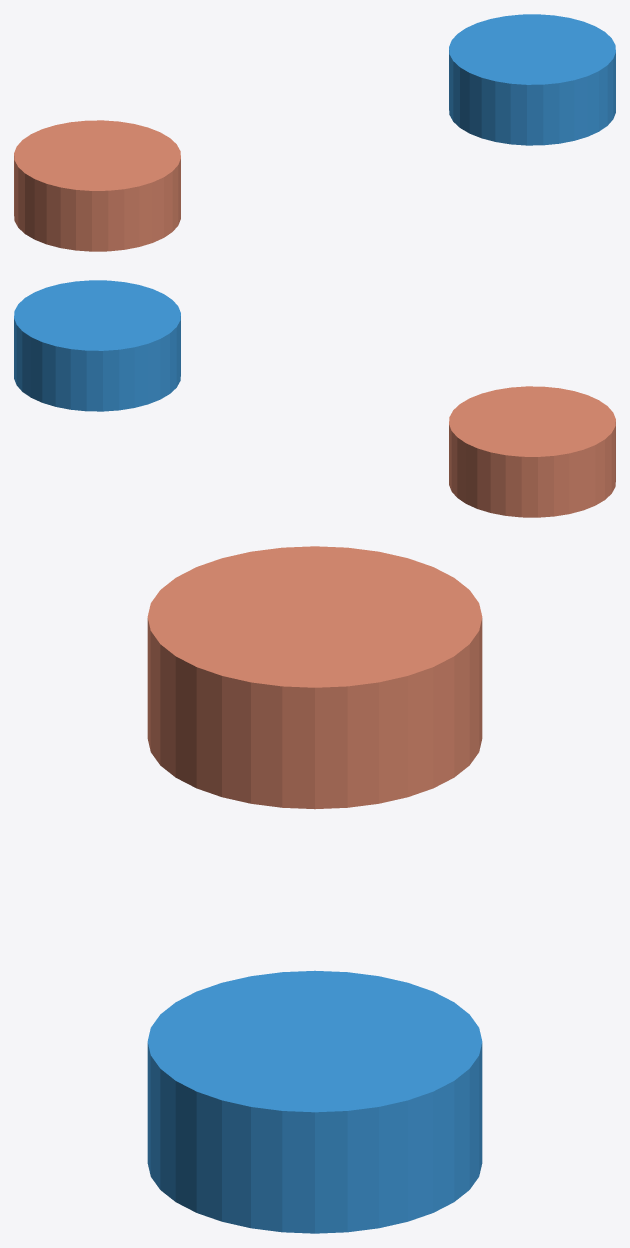
File: color_anim.gltf
3 renders of one model, top to bottom at view 1: azimuth 30°, elevation 25°; view 2: azimuth 150°, elevation 25°; view 3: azimuth 270°, elevation 25°, orthographic. The views are drawn at different scales.
Visible parts, largest first — view 1: state1, appear1; view 2: state1, appear1; view 3: state1, appear1.
Part boxes in pixels (<box>): state1: <box>449,14,615,145</box>; appear1: <box>14,120,180,251</box>; state1: <box>14,280,180,411</box>; appear1: <box>449,386,615,517</box>; state1: <box>147,970,482,1233</box>; appear1: <box>147,546,482,809</box>.
Size of the model in its own units: 4 by 0.4 by 1.
